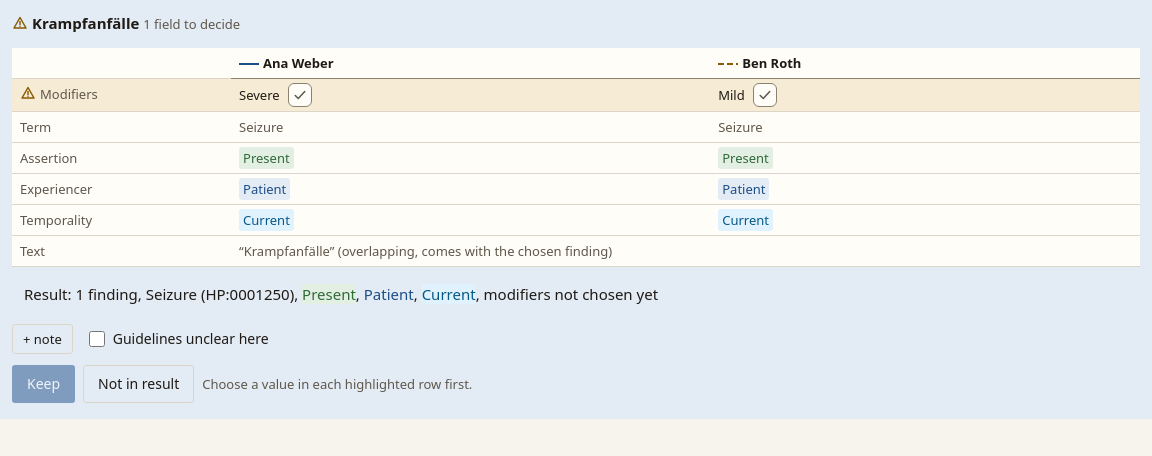
Test case: GroupCard, modifiers › shows Two severities in words for the chosen modifiers
What coordinates should you click on to do the following:
click the button named "Take Severe from Ana Weber for Modifiers"
I would click on:
 (300, 95)
Its box is [288, 83, 312, 107].
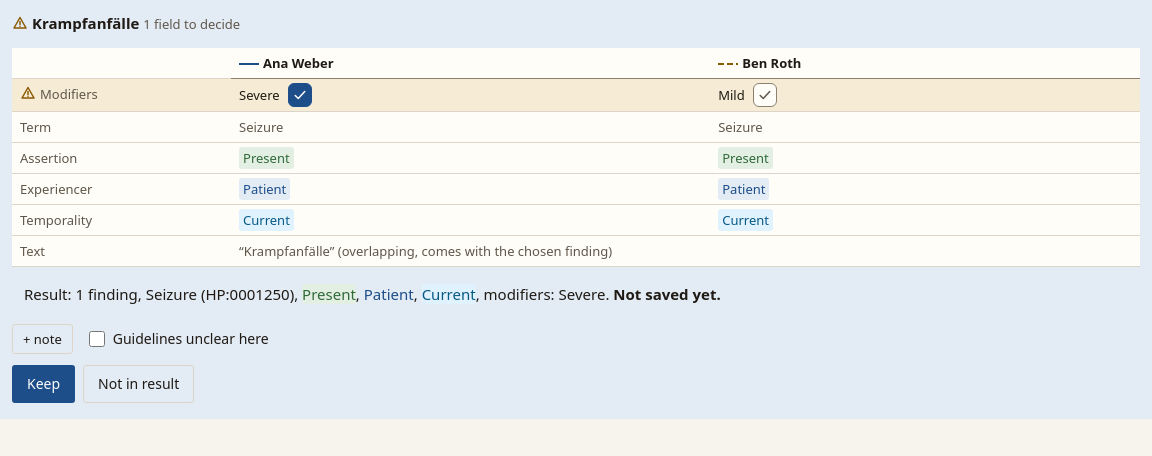
What coordinates should you click on to do the following:
click the button named "Take Mild from Ben Roth for Modifiers"
I would click on:
 (765, 95)
Its box is [753, 83, 777, 107].
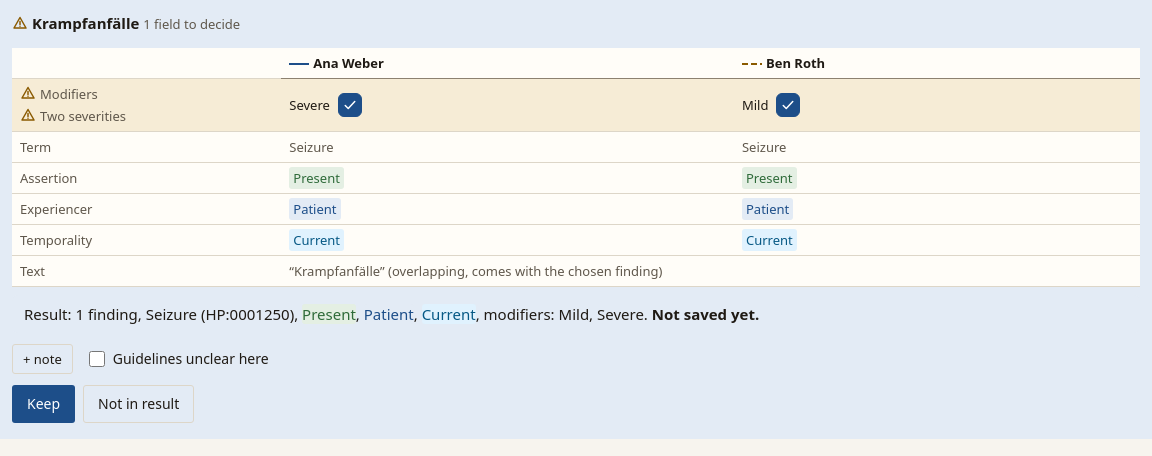
Now the column heading "Modifiers Two severities" is shown, box [12, 79, 281, 132]
